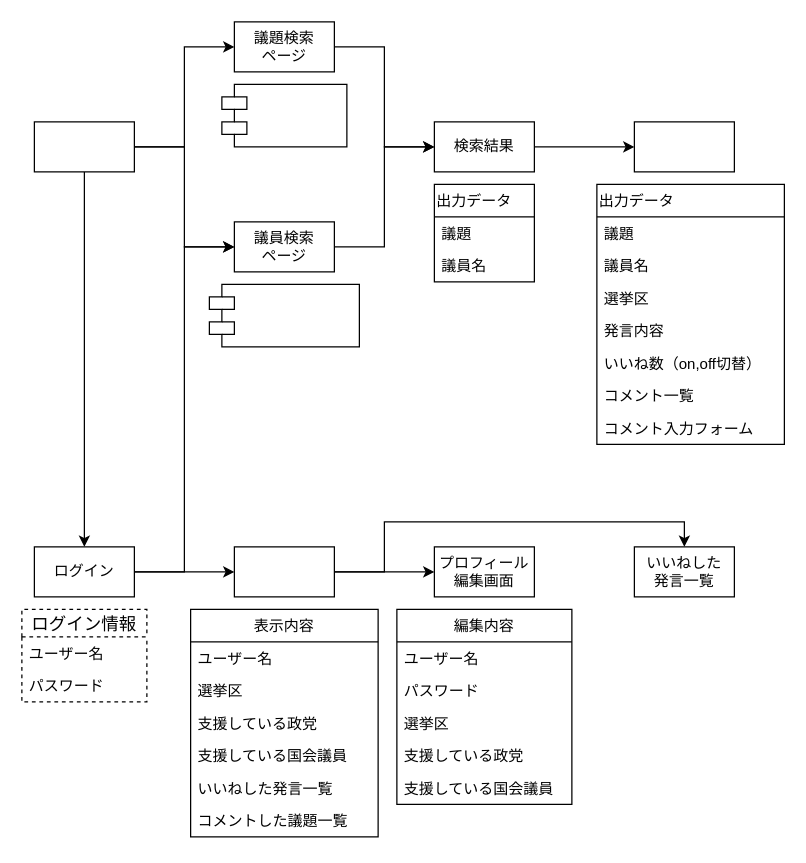
Some shapes in this 806 by 863 pixel diagram are drawn without their labels. The centre of each missing label's shape, as x and y in pixels:
"トップ" goes at (83,146).
"プロフィール 表示画面" goes at (283,571).
"発言内容検索 議題検索" goes at (284,115).
"議員名検索 選挙区検索" goes at (283,315).
"議題の詳細" goes at (683,146).
